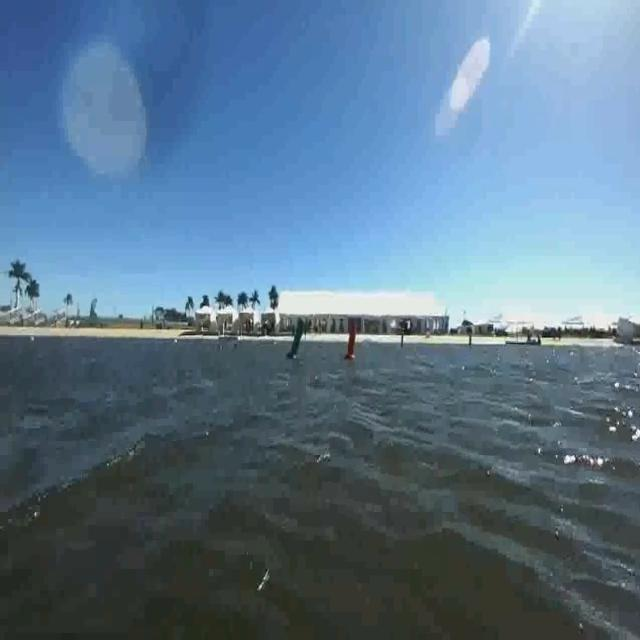green-column-buoy: (288, 308, 308, 364)
red-column-buoy: (342, 314, 362, 361)
